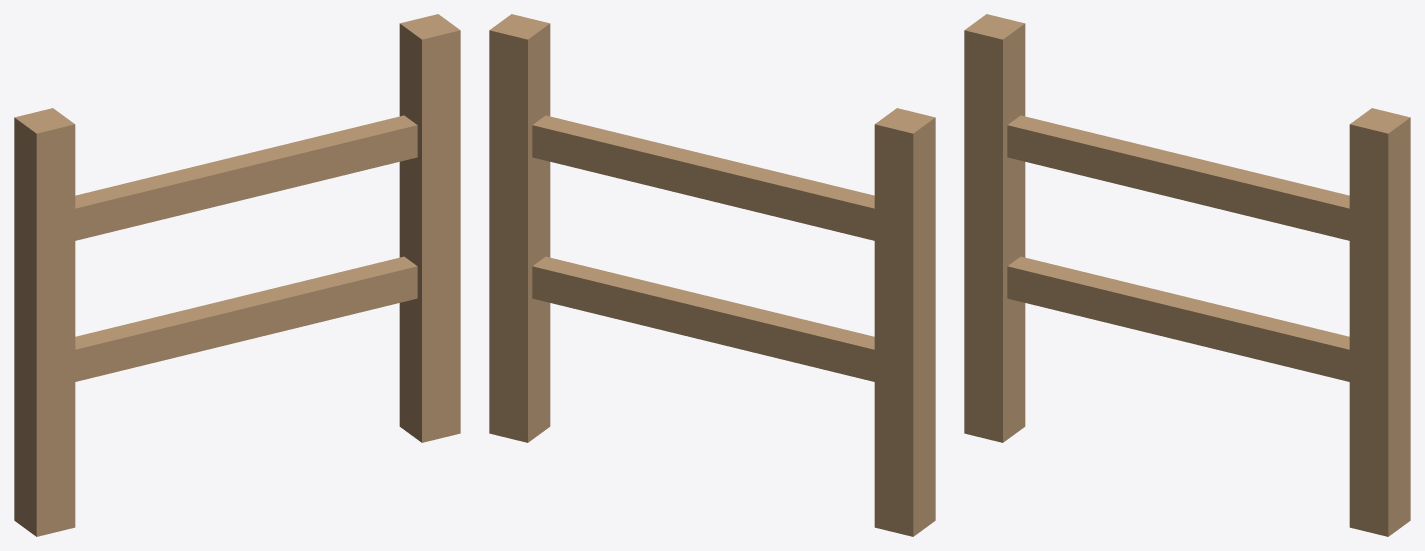
Rendered from Prop_Live_AMF_Fence_V15.glb.
3 views of the same model, side by side, from view 1: azimuth 30°, elevation 25°; view 2: azimuth 150°, elevation 25°; view 3: azimuth 330°, elevation 25° (orthographic).
Parts seen in each view (by area): view 1: Prop_Live_AMF_Fence_V15; view 2: Prop_Live_AMF_Fence_V15; view 3: Prop_Live_AMF_Fence_V15.
Part boxes in pixels (x1,y1,x2,y2): Prop_Live_AMF_Fence_V15: [14, 14, 460, 536]; Prop_Live_AMF_Fence_V15: [489, 14, 935, 536]; Prop_Live_AMF_Fence_V15: [964, 14, 1410, 536].
Size of the model in its own units: 1.1 by 1 by 0.1.
